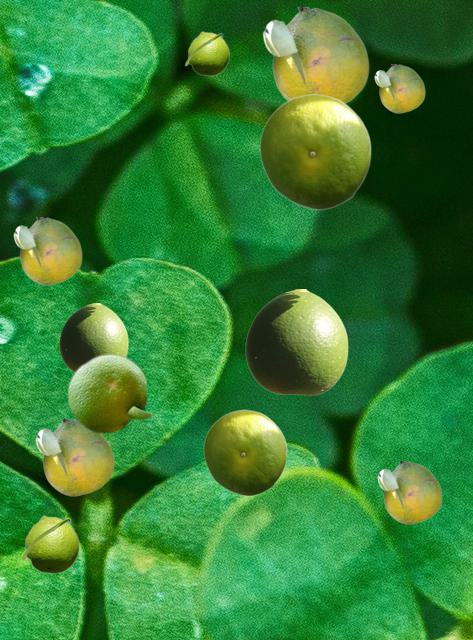dalandan: (259, 93, 370, 209), (245, 289, 347, 394), (262, 7, 368, 103), (203, 409, 286, 495), (66, 352, 153, 433), (35, 419, 113, 495), (59, 303, 127, 371), (13, 217, 81, 284), (377, 461, 441, 523), (20, 515, 79, 573), (374, 64, 424, 112), (184, 31, 229, 75)
